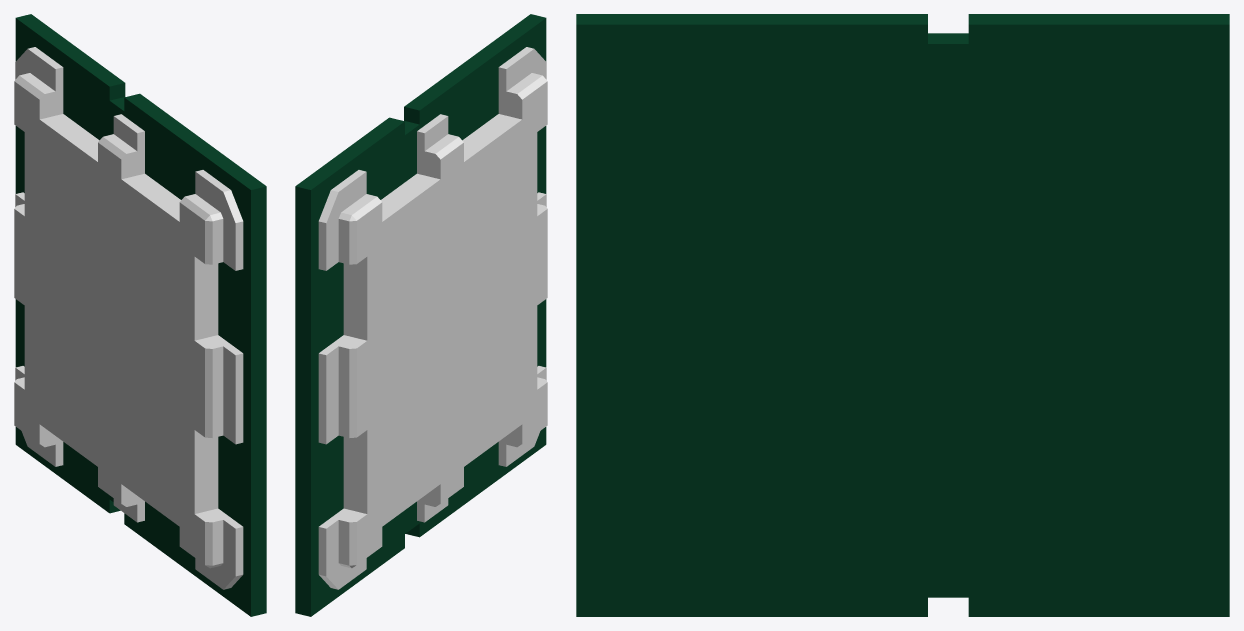
The model's file is PC_CPU.fbx.
The picture shows the model from 3 angles, left to right: view 1: azimuth 30°, elevation 25°; view 2: azimuth 150°, elevation 25°; view 3: azimuth 270°, elevation 25°; orthographic projection. The views are drawn at different scales.
Visible parts, largest first — view 1: CPU.002; view 2: CPU.002; view 3: CPU.002.
Part boxes in pixels (box(x1,y1,x2,y2)): CPU.002: box(14, 14, 266, 616); CPU.002: box(295, 14, 547, 616); CPU.002: box(576, 14, 1229, 616).
Bounding box in the file's own units: 1.72 × 17.9 × 17.9.
